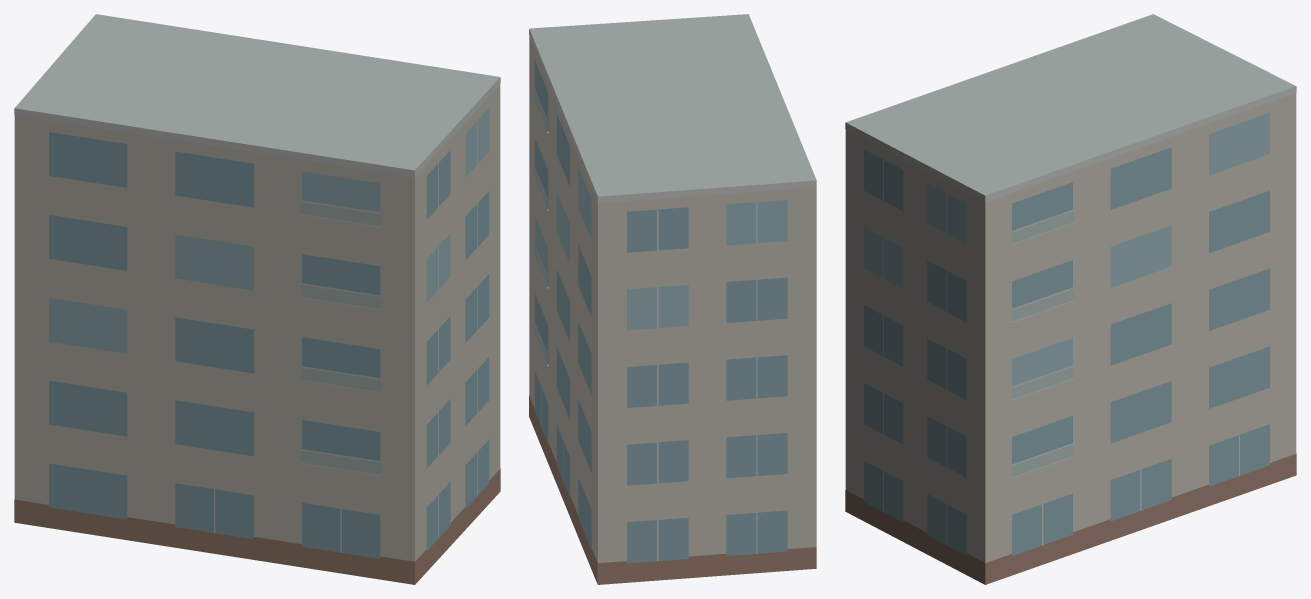
The model's file is survey-upis-32942405.glb.
The picture shows the model from 3 angles, left to right: view 1: azimuth 30°, elevation 25°; view 2: azimuth 150°, elevation 25°; view 3: azimuth 270°, elevation 25°; orthographic projection. The views are drawn at different scales.
Visible parts, largest first — view 1: survey-upis-32942405.tmp; view 2: survey-upis-32942405.tmp; view 3: survey-upis-32942405.tmp.
Part boxes in pixels (bbox=[...]): survey-upis-32942405.tmp: bbox=[14, 14, 500, 584]; survey-upis-32942405.tmp: bbox=[529, 14, 816, 584]; survey-upis-32942405.tmp: bbox=[845, 14, 1296, 584].
Size of the model in its own units: 14.46 by 14.43 by 15.16.
